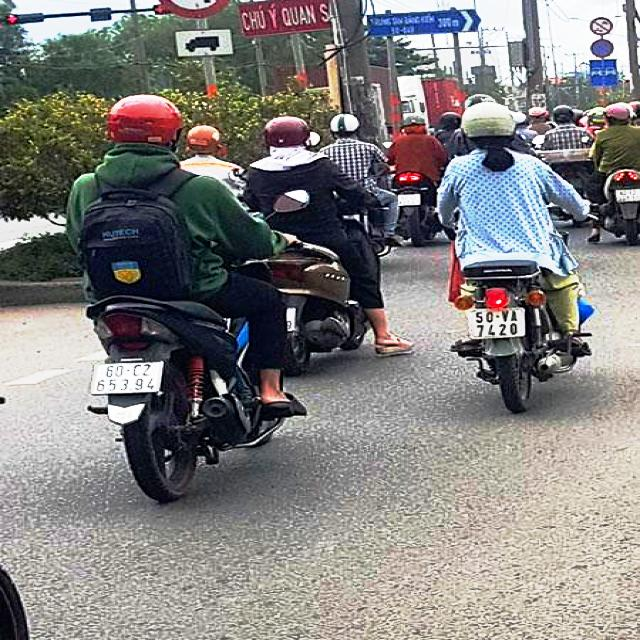license_plate: (95, 363, 163, 394), (468, 309, 526, 338)
